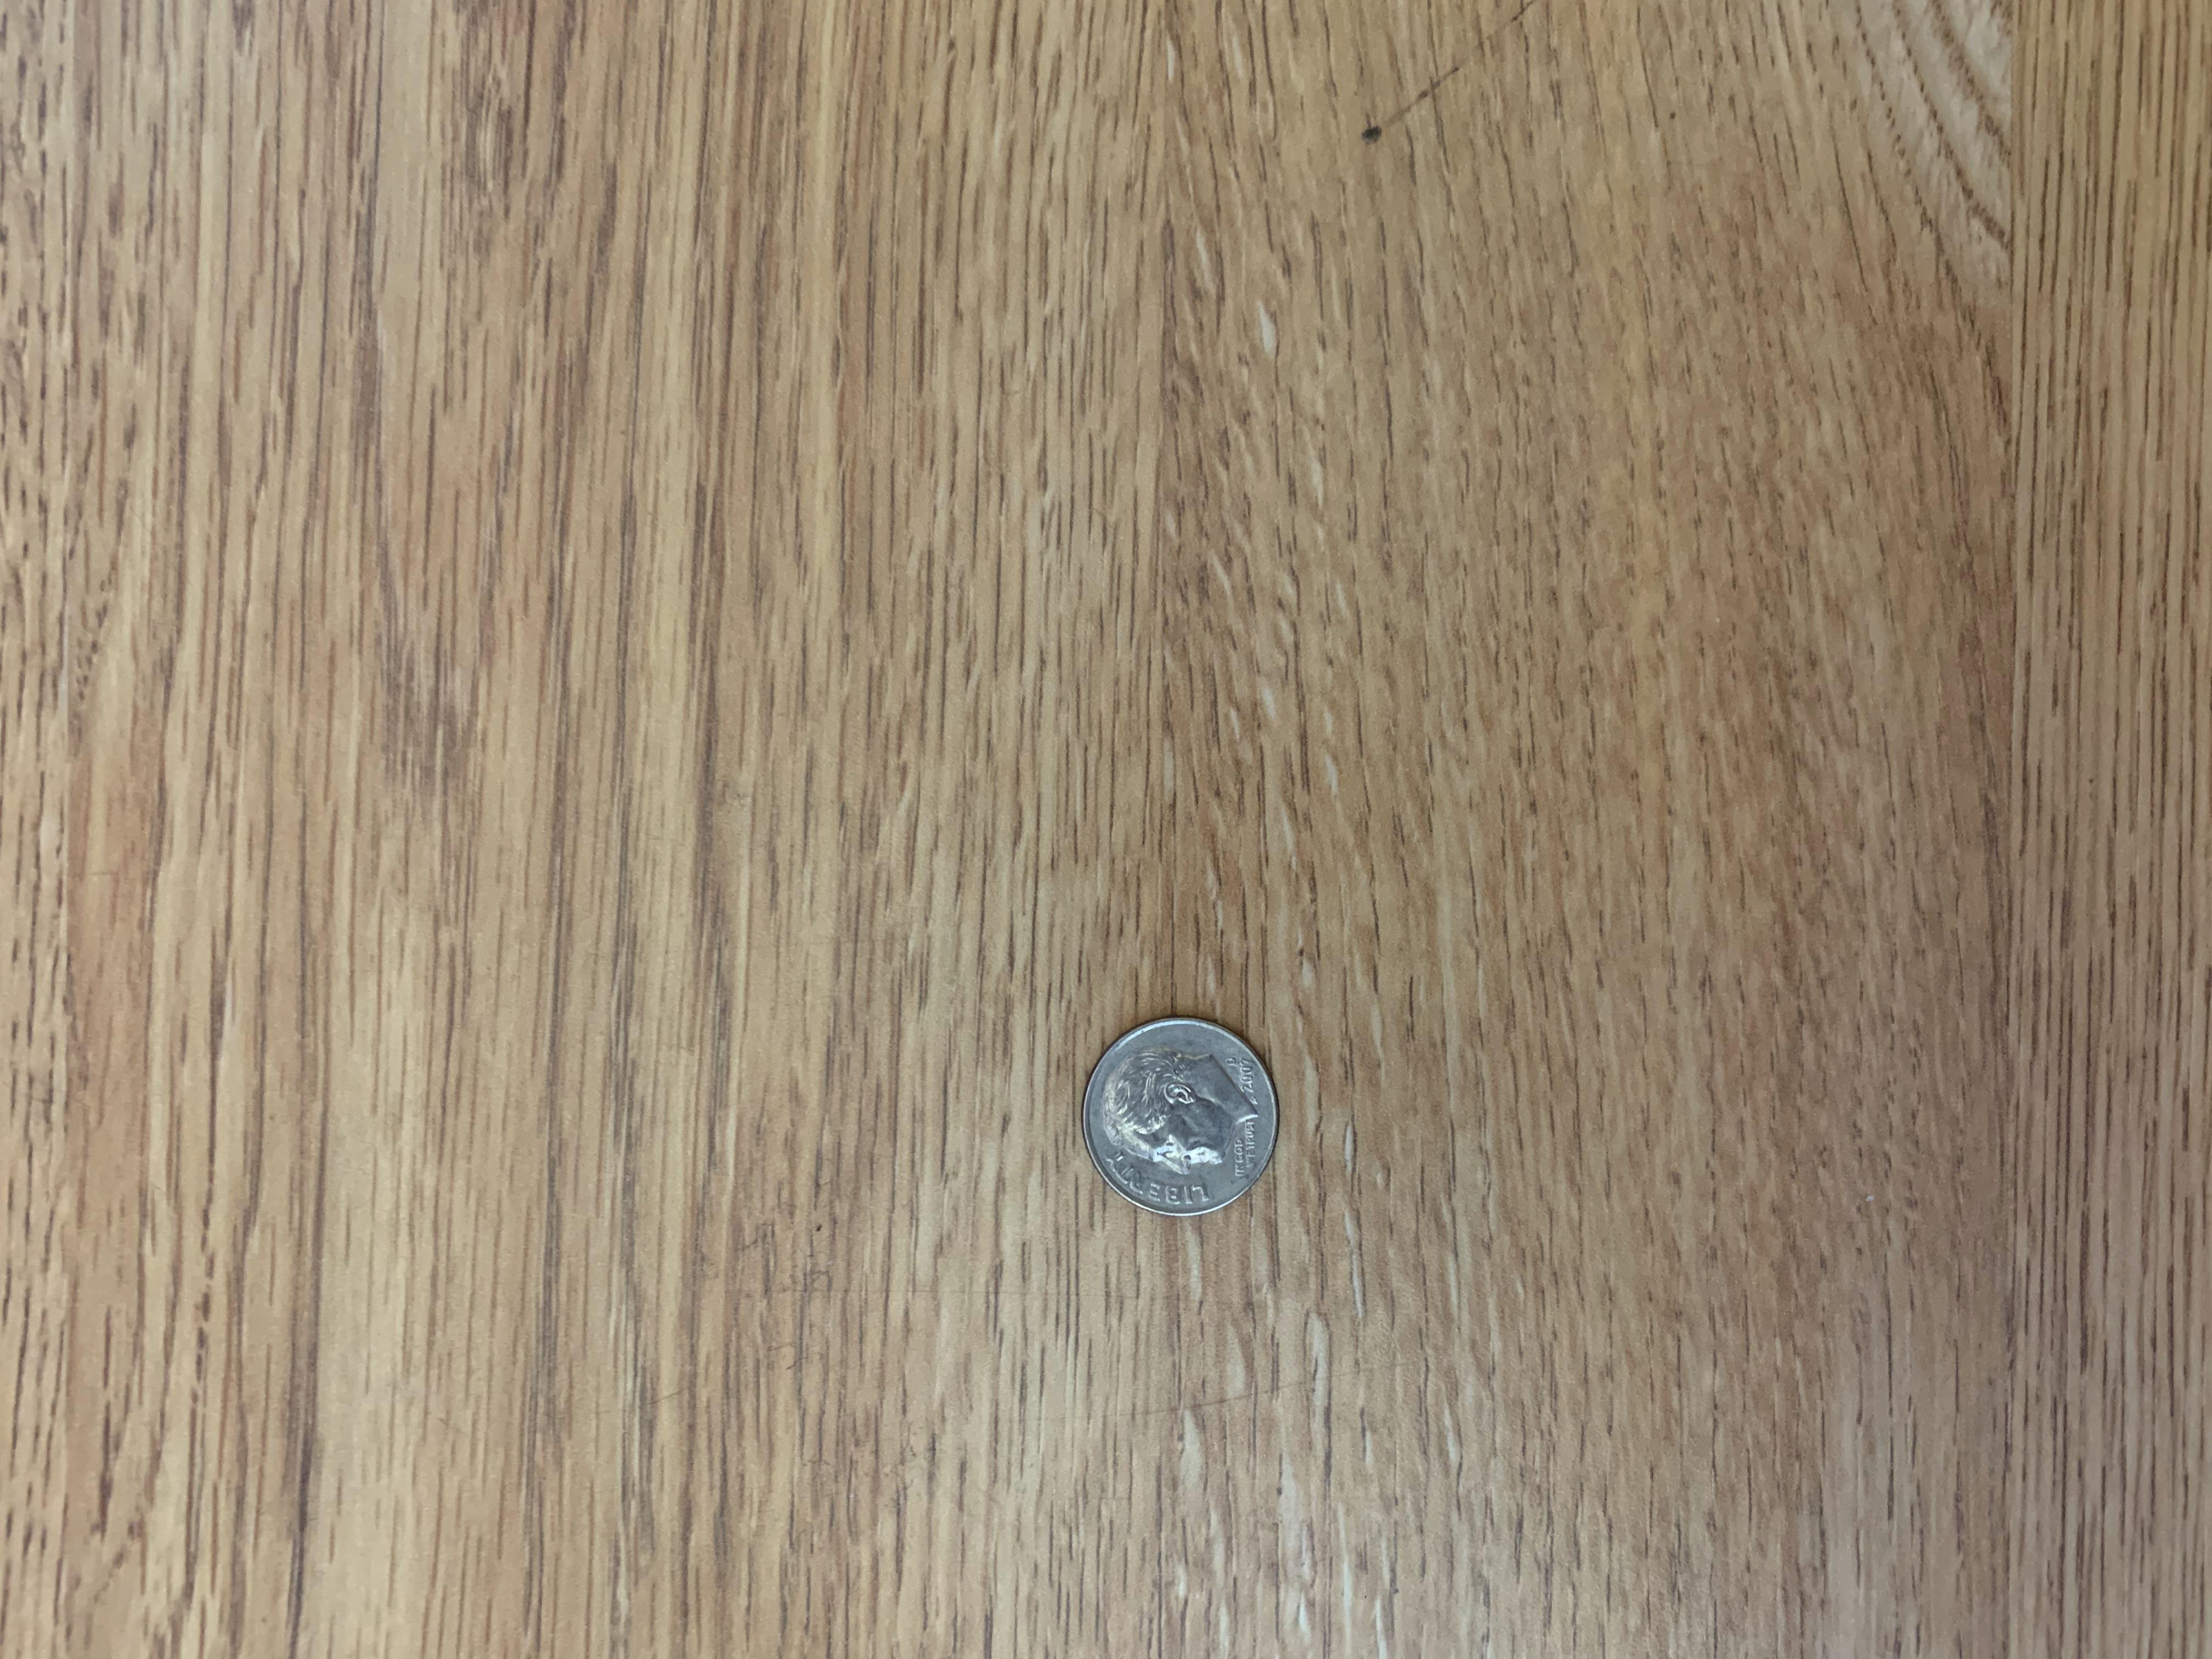Dime: (1071, 1014, 1282, 1223)
